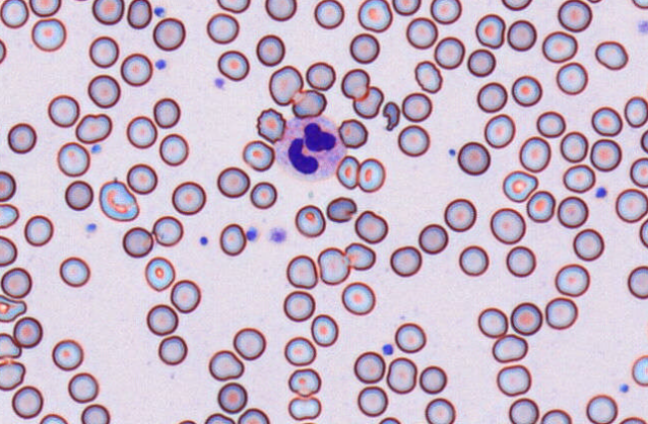GRAN: (272, 117, 348, 182)
PLT: (244, 226, 259, 242), (152, 5, 167, 18), (596, 185, 609, 199), (154, 58, 168, 70), (90, 143, 104, 155), (85, 221, 97, 233), (382, 343, 394, 355), (617, 382, 628, 394), (199, 235, 208, 246), (447, 147, 457, 156)
RBC: (98, 179, 139, 221), (489, 207, 525, 244), (317, 246, 350, 285), (171, 180, 206, 215), (30, 17, 66, 51), (554, 263, 590, 297), (354, 209, 388, 244), (56, 141, 90, 176), (541, 30, 577, 63), (386, 356, 417, 394), (341, 281, 375, 315), (518, 136, 550, 172), (457, 141, 490, 175), (152, 17, 185, 51), (544, 296, 578, 329), (87, 74, 120, 108), (496, 364, 531, 396), (357, 0, 392, 32), (286, 254, 318, 289), (502, 170, 537, 202), (557, 0, 592, 32), (483, 113, 515, 148), (233, 327, 266, 360), (443, 198, 476, 231), (216, 166, 250, 198), (510, 301, 542, 335), (615, 188, 647, 222), (120, 52, 152, 86), (556, 61, 588, 95), (144, 256, 175, 291), (255, 107, 285, 143), (491, 333, 528, 362), (242, 139, 275, 171), (11, 385, 43, 418), (206, 12, 239, 44), (405, 16, 437, 49), (572, 228, 604, 261), (47, 94, 79, 127), (433, 36, 465, 69), (475, 13, 505, 48), (0, 266, 32, 298), (146, 303, 178, 335), (217, 49, 249, 81), (353, 351, 385, 383), (51, 338, 83, 370), (397, 124, 429, 156), (352, 85, 383, 118), (294, 204, 325, 237), (389, 245, 422, 276), (126, 115, 157, 148), (88, 35, 119, 68), (557, 195, 588, 228), (590, 138, 621, 171), (170, 279, 200, 313), (594, 40, 628, 70), (505, 245, 536, 277), (477, 306, 508, 338), (283, 290, 315, 321), (394, 322, 426, 353), (458, 244, 489, 276), (158, 133, 188, 166), (562, 163, 595, 193), (357, 157, 385, 192), (122, 226, 153, 257), (126, 163, 157, 194), (357, 385, 388, 416), (67, 372, 98, 403), (152, 215, 183, 246), (401, 91, 432, 122), (59, 256, 90, 287), (511, 75, 542, 106), (476, 81, 507, 112), (340, 68, 370, 100), (12, 316, 42, 348), (284, 336, 316, 366), (585, 393, 617, 423), (255, 34, 285, 66), (349, 32, 379, 64), (23, 214, 53, 246), (506, 19, 536, 51), (288, 367, 321, 396), (217, 382, 247, 413), (337, 118, 368, 148), (418, 223, 448, 254), (591, 106, 622, 136), (526, 190, 555, 222), (559, 130, 588, 162), (414, 60, 442, 93), (310, 313, 338, 346), (157, 335, 187, 365), (305, 61, 336, 90), (313, 0, 344, 29), (7, 122, 36, 153), (64, 180, 93, 210), (219, 223, 246, 255), (153, 97, 180, 128), (91, 0, 124, 25), (335, 155, 359, 189), (0, 0, 29, 28), (419, 365, 447, 394), (467, 48, 495, 77), (424, 397, 455, 423), (508, 397, 539, 423), (0, 358, 25, 390), (249, 181, 277, 209), (536, 110, 565, 137), (126, 0, 152, 29), (430, 0, 461, 24), (624, 95, 647, 127), (264, 0, 297, 21), (627, 265, 647, 299), (80, 403, 110, 423), (29, 0, 61, 17), (629, 157, 647, 187), (0, 235, 17, 266), (631, 354, 647, 386), (237, 407, 269, 423), (0, 170, 16, 201), (0, 203, 19, 228), (540, 408, 571, 423), (216, 0, 250, 13), (392, 0, 421, 15), (204, 412, 235, 423), (501, 0, 532, 10), (39, 413, 68, 423), (639, 217, 647, 247), (618, 416, 646, 423), (0, 37, 7, 64), (640, 129, 647, 153), (378, 416, 401, 423), (631, 0, 648, 9), (176, 419, 196, 423), (293, 421, 317, 424), (586, 0, 602, 3), (70, 0, 90, 1)
Schistocyte: (268, 65, 303, 106), (73, 113, 114, 144), (208, 350, 245, 381), (292, 91, 328, 118), (345, 242, 377, 272), (0, 293, 28, 324), (286, 396, 322, 420), (325, 197, 357, 223), (0, 331, 24, 361), (381, 100, 402, 131)
